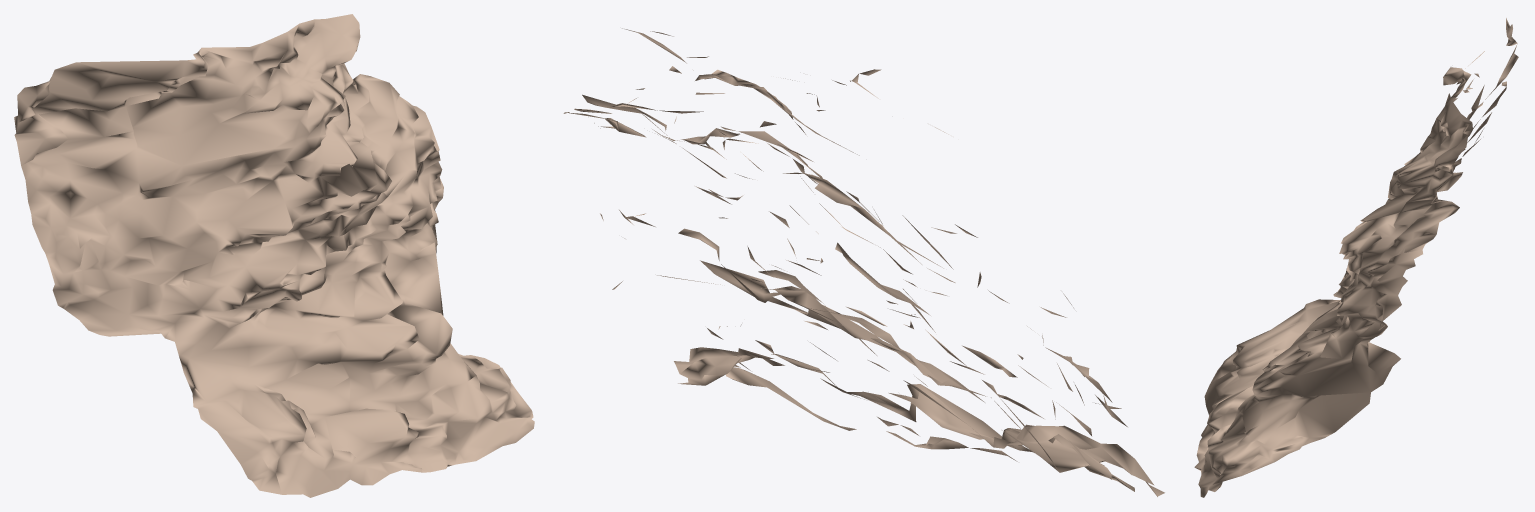
3 views of the same model, side by side, from view 1: azimuth 30°, elevation 25°; view 2: azimuth 150°, elevation 25°; view 3: azimuth 270°, elevation 25° (orthographic). The views are drawn at different scales.
Parts seen in each view (by area): view 1: rock_face_02; view 2: rock_face_02; view 3: rock_face_02.
Part boxes in pixels (x1,y1,x2,y2): rock_face_02: (14,14,534,497); rock_face_02: (563,28,1164,496); rock_face_02: (1194,18,1518,497).
Bounding box in the file's own units: 1 × 0.9117 × 0.7846.
